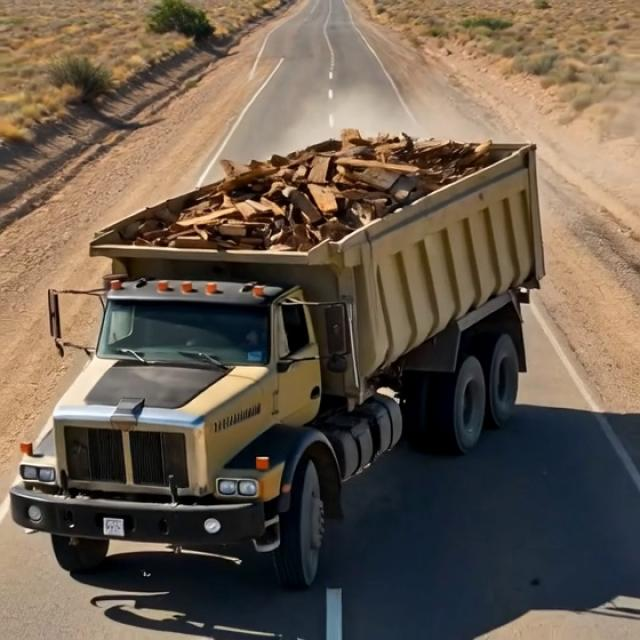trailer: (82, 128, 538, 261)
truck: (8, 113, 559, 592)
